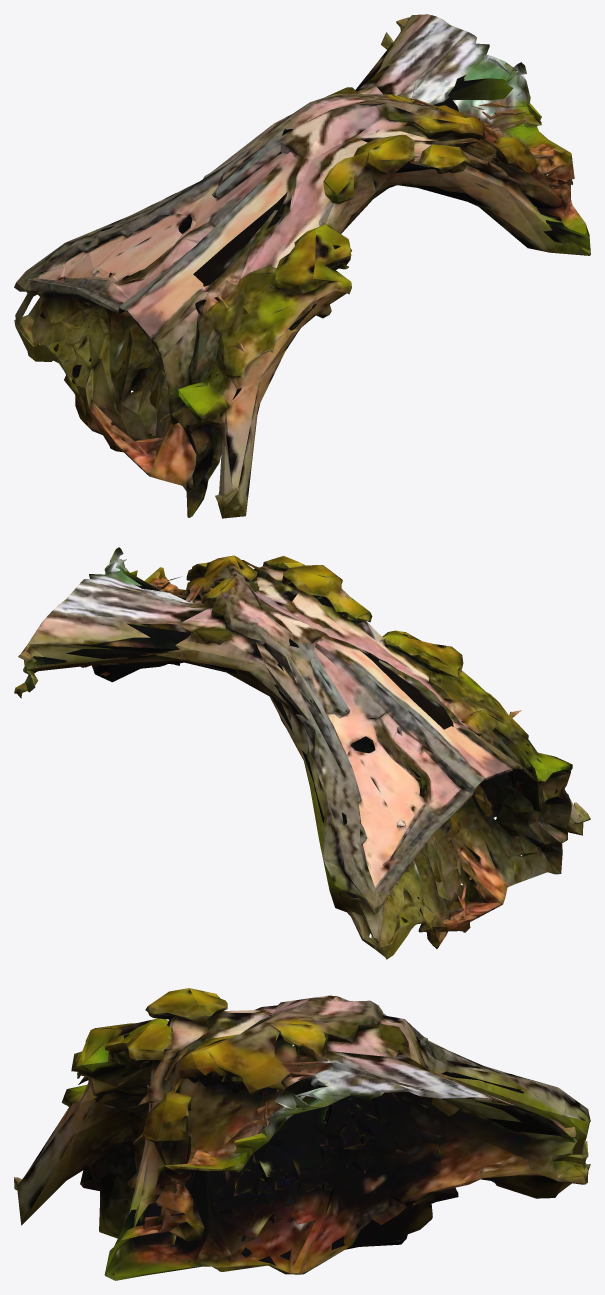
The model's file is swamp_stump_mossy_01.glb.
3 renders of one model, top to bottom at view 1: azimuth 30°, elevation 25°; view 2: azimuth 150°, elevation 25°; view 3: azimuth 270°, elevation 25°, orthographic. The views are drawn at different scales.
Visible parts, largest first — view 1: geometry_0; view 2: geometry_0; view 3: geometry_0.
Part boxes in pixels (x1,y1,x2,y2): geometry_0: (14,14,590,518); geometry_0: (14,547,590,959); geometry_0: (14,988,590,1280).
Size of the model in its own units: 0.9996 by 0.7122 by 0.9319.
Materials: 1 (1 with a texture image).
